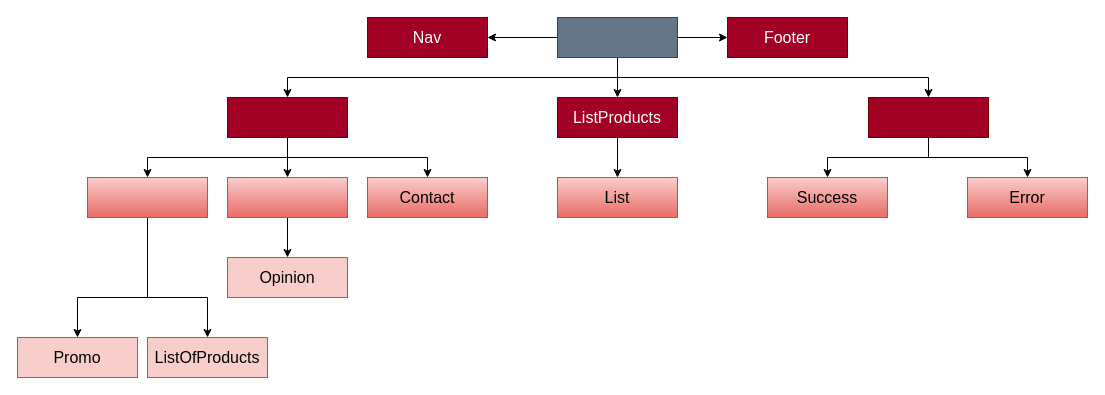
The diagram is 1105 pixels wide and 395 high, and some of its shapes have lost their labels. Each missing label, with the centre of its shape:
"Home" goes at point (287, 117).
"Invoice" goes at point (928, 117).
"Nav.js" goes at point (617, 37).
"Promotions" goes at point (147, 197).
"Testimonios" goes at point (287, 197).
